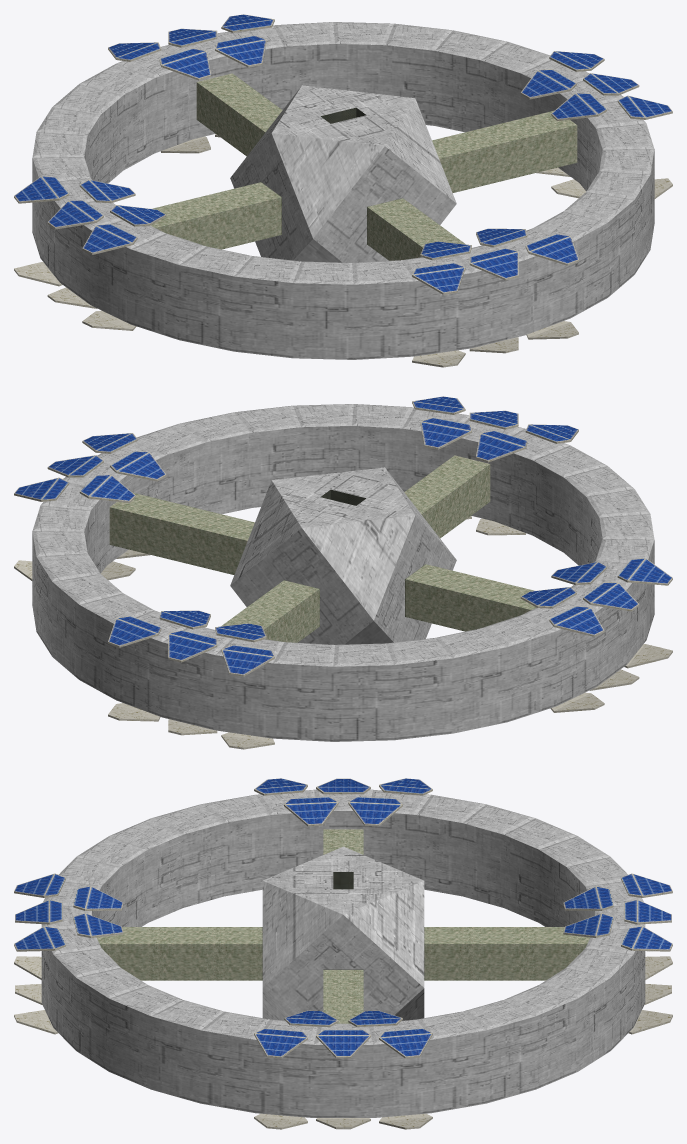
Rendered from hoop_collide.dae.
3 views of the same model, one above another, from view 1: azimuth 30°, elevation 25°; view 2: azimuth 150°, elevation 25°; view 3: azimuth 270°, elevation 25° (orthographic). The views are drawn at different scales.
Parts seen in each view (by area): view 1: default; view 2: default; view 3: default.
Boxes of the visible parts, box(x1,y1,x2,y2) form: default: box(14, 14, 672, 367); default: box(14, 396, 672, 749); default: box(14, 778, 672, 1129).
Bounding box in the file's own units: 3260 × 800 × 3260.
1 material, 1 textured.
